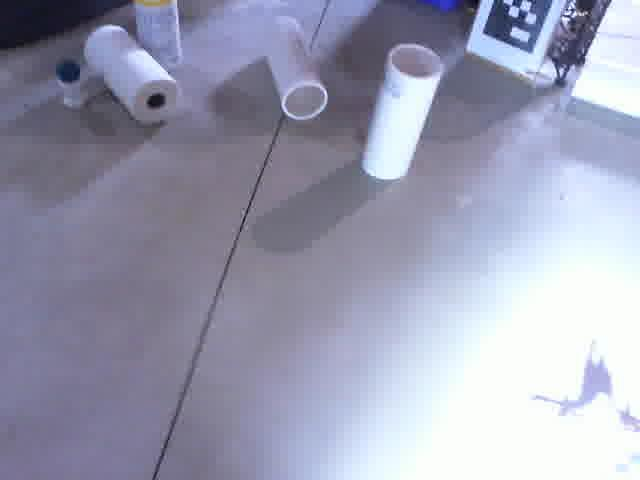coral: (363, 43, 443, 180), (85, 24, 180, 125), (261, 15, 327, 120)
